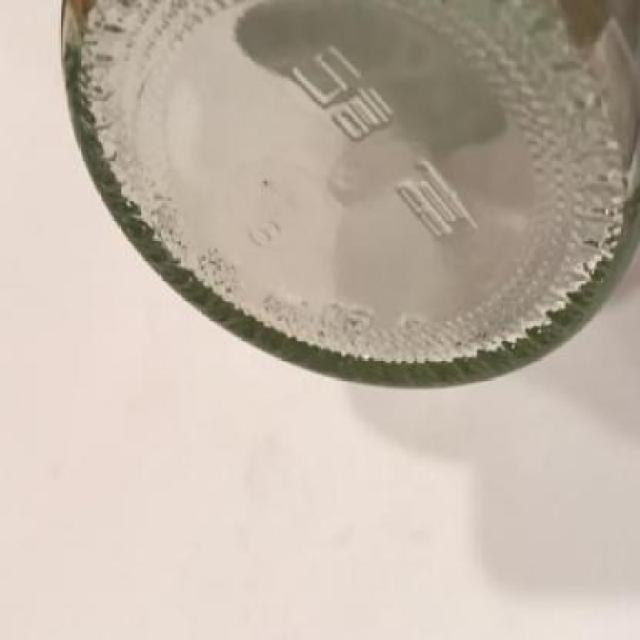GLASS: (59, 2, 638, 390)
